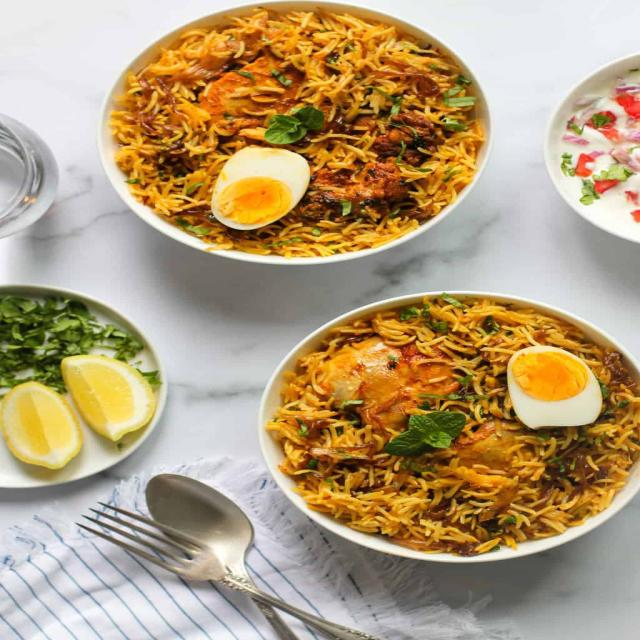chicken biryani: (285, 331, 621, 549), (142, 34, 464, 239)
